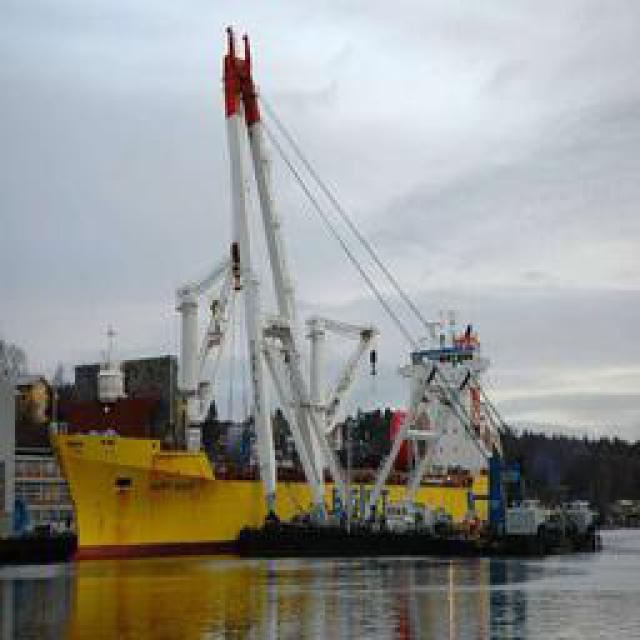Ship: (47, 18, 570, 553)
